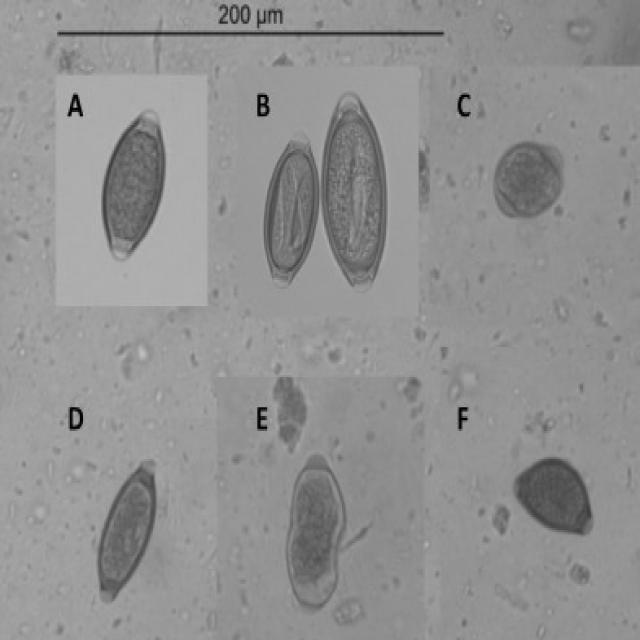Trichuris Trichiura: (320, 82, 390, 297), (95, 103, 169, 270), (258, 116, 325, 296), (91, 450, 163, 608)
